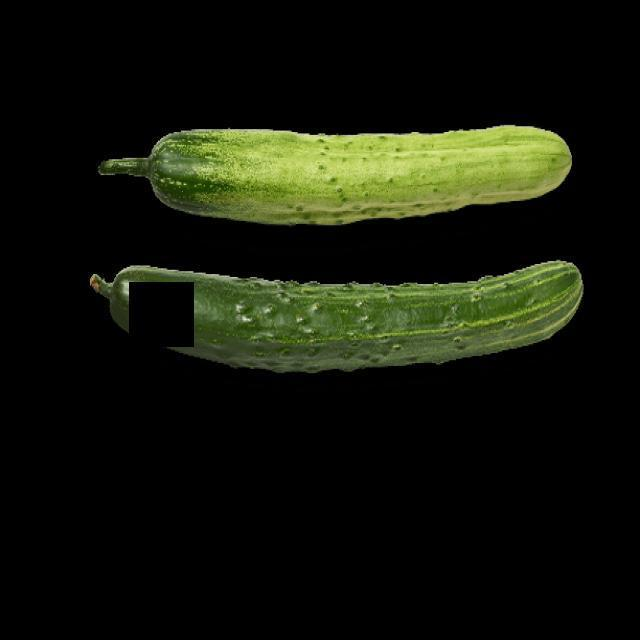cucumber: (57, 98, 627, 408), (75, 241, 612, 377), (76, 123, 592, 235)
